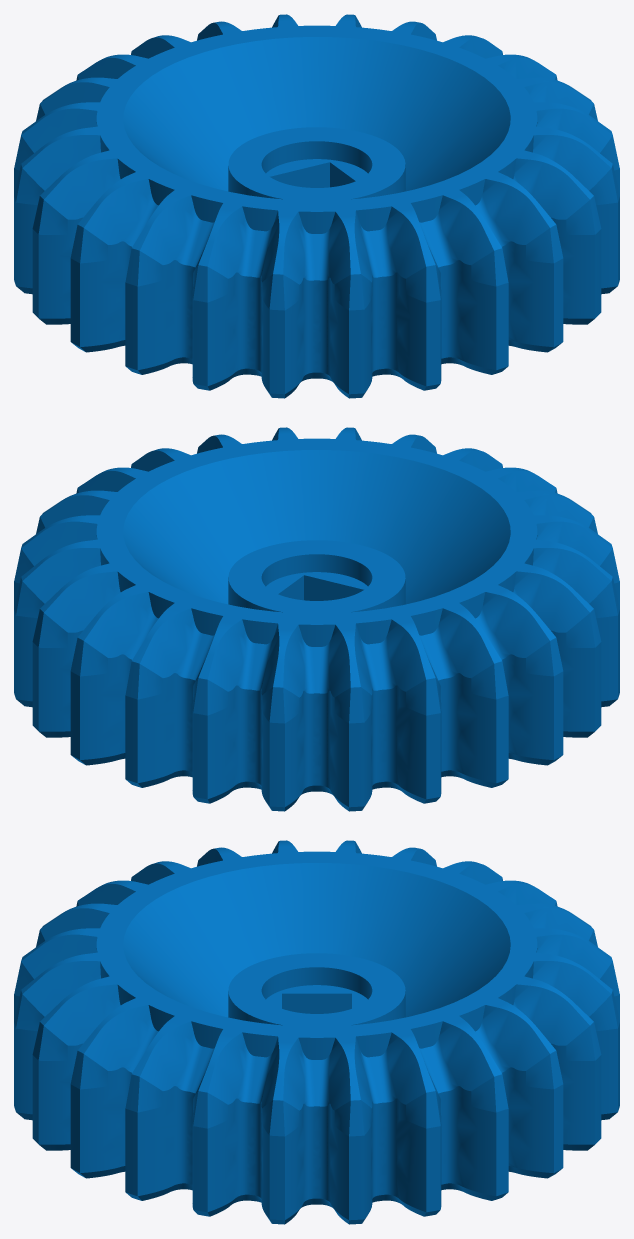
3 renders of one model, top to bottom at view 1: azimuth 30°, elevation 25°; view 2: azimuth 150°, elevation 25°; view 3: azimuth 270°, elevation 25°, orthographic.
Visible parts, largest first — view 1: 24-Tooth Hybrid Gear (228-2500-251); view 2: 24-Tooth Hybrid Gear (228-2500-251); view 3: 24-Tooth Hybrid Gear (228-2500-251).
Part boxes in pixels (x1,y1,x2,y2): 24-Tooth Hybrid Gear (228-2500-251): (14,14,619,398); 24-Tooth Hybrid Gear (228-2500-251): (14,427,619,811); 24-Tooth Hybrid Gear (228-2500-251): (14,840,619,1224).
Size of the model in its own units: 0.0274 by 0.00864 by 0.0274.
